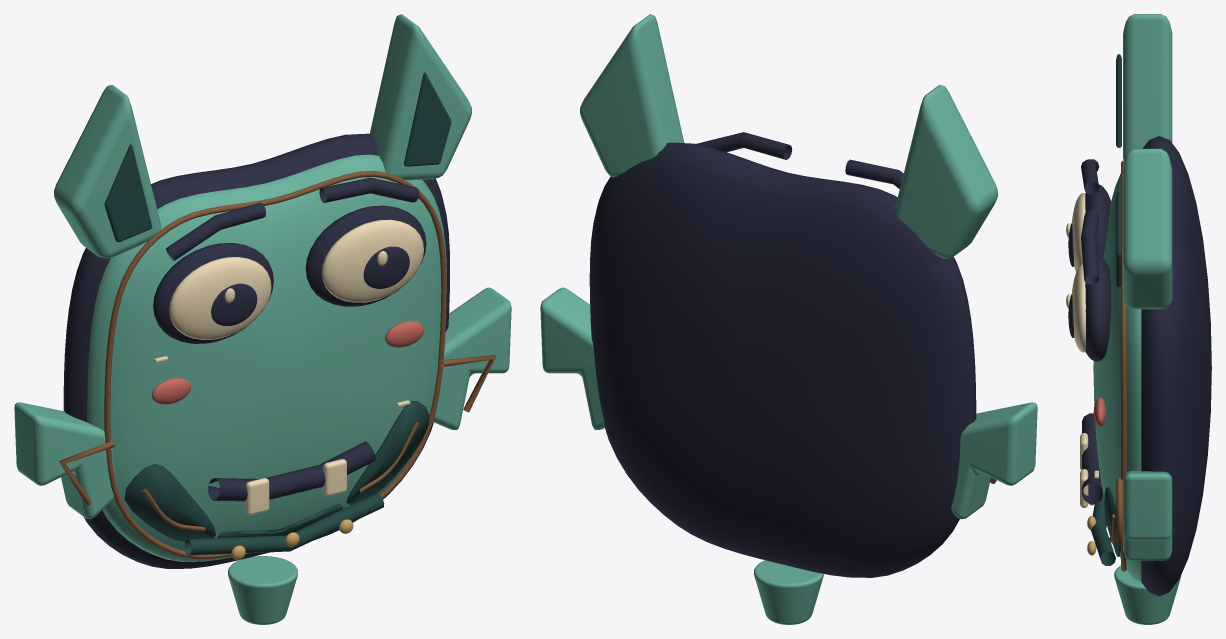
Rendered from monster_mint.glb.
3 views of the same model, side by side, from view 1: azimuth 30°, elevation 25°; view 2: azimuth 150°, elevation 25°; view 3: azimuth 270°, elevation 25° (orthographic). The views are drawn at different scales.
Visible parts, largest first — view 1: monster_mint_Body_mint_enamel, monster_mint_Body_charcoal_enamel, monster_mint_Body_midnight_teal, monster_mint_Crest_L_mint_enamel, monster_mint_Crest_R_mint_enamel, monster_mint_Hand_L_mint_enamel, monster_mint_Body_antique_gold, monster_mint_Hand_R_mint_enamel, monster_mint_Eye_R_aged_ivory, monster_mint_Eye_L_aged_ivory, monster_mint_Eye_R_charcoal_enamel, monster_mint_Eye_L_charcoal_enamel (+10 smaller); view 2: monster_mint_Body_charcoal_enamel, monster_mint_Crest_L_mint_enamel, monster_mint_Crest_R_mint_enamel, monster_mint_Hand_L_mint_enamel, monster_mint_Hand_R_mint_enamel, monster_mint_Body_mint_enamel, monster_mint_Brow_R_charcoal_enamel, monster_mint_Brow_L_charcoal_enamel; view 3: monster_mint_Body_charcoal_enamel, monster_mint_Body_mint_enamel, monster_mint_Crest_R_mint_enamel, monster_mint_Crest_L_mint_enamel, monster_mint_Hand_R_mint_enamel, monster_mint_Eye_R_charcoal_enamel, monster_mint_Body_antique_gold, monster_mint_Body_midnight_teal, monster_mint_Mouth_charcoal_enamel, monster_mint_Brow_R_charcoal_enamel, monster_mint_Eye_R_aged_ivory, monster_mint_Eye_L_charcoal_enamel (+8 smaller).
Part boxes in pixels (x1,y1,x2,y2): monster_mint_Body_mint_enamel: (87,154,446,624); monster_mint_Body_charcoal_enamel: (63,133,449,568); monster_mint_Body_midnight_teal: (124,401,429,555); monster_mint_Crest_L_mint_enamel: (54,85,161,258); monster_mint_Crest_R_mint_enamel: (369,14,471,180); monster_mint_Hand_L_mint_enamel: (14,402,116,519); monster_mint_Body_antique_gold: (104,170,446,558); monster_mint_Hand_R_mint_enamel: (433,287,511,430); monster_mint_Eye_R_aged_ivory: (322,219,423,302); monster_mint_Eye_L_aged_ivory: (169,257,271,339); monster_mint_Eye_R_charcoal_enamel: (305,205,426,306); monster_mint_Eye_L_charcoal_enamel: (153,243,273,343); monster_mint_Body_charcoal_enamel: (589,142,976,577); monster_mint_Crest_L_mint_enamel: (895,85,997,258); monster_mint_Crest_R_mint_enamel: (580,14,684,177); monster_mint_Hand_L_mint_enamel: (951,402,1037,519); monster_mint_Hand_R_mint_enamel: (540,287,604,430); monster_mint_Body_mint_enamel: (754,560,823,624); monster_mint_Brow_R_charcoal_enamel: (696,132,792,159); monster_mint_Brow_L_charcoal_enamel: (845,159,903,188); monster_mint_Body_charcoal_enamel: (1141,136,1211,596); monster_mint_Body_mint_enamel: (1093,173,1181,624); monster_mint_Crest_R_mint_enamel: (1123,148,1172,309); monster_mint_Crest_L_mint_enamel: (1123,14,1172,160); monster_mint_Hand_R_mint_enamel: (1123,471,1172,560); monster_mint_Eye_R_charcoal_enamel: (1085,255,1111,361); monster_mint_Body_antique_gold: (1109,160,1126,571); monster_mint_Body_midnight_teal: (1091,487,1120,565); monster_mint_Mouth_charcoal_enamel: (1082,413,1103,503); monster_mint_Brow_R_charcoal_enamel: (1081,210,1099,284); monster_mint_Eye_R_aged_ivory: (1071,264,1085,352); monster_mint_Eye_L_charcoal_enamel: (1085,184,1110,257).
Bounding box in the file's own units: 1.6 × 1.8 × 0.443.
